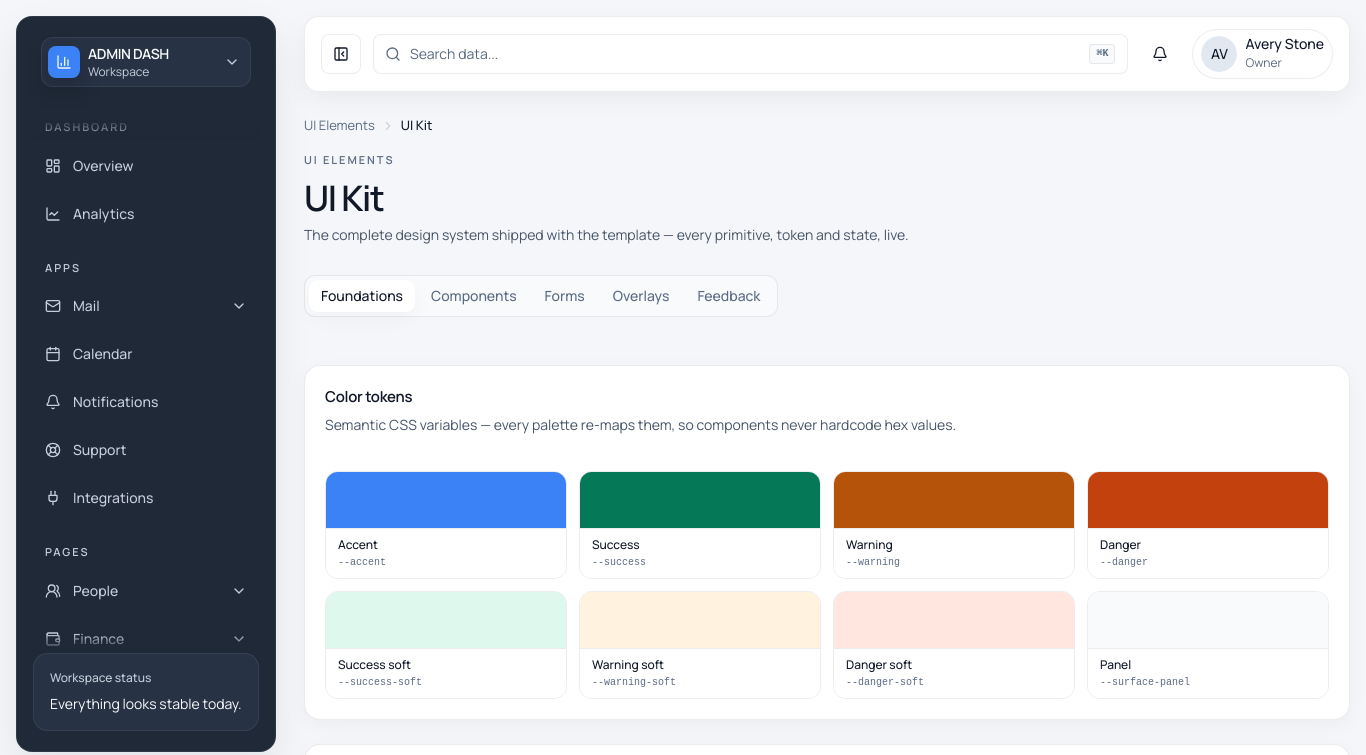
Test: ui kit page › switches panels and shows the component sections
The image size is (1366, 755).
Expected: the heading "UI Kit" is shown, x1=304 y1=173 x2=383 y2=222
Click the tab "Components": (474, 296) x1=419 y1=280 x2=528 y2=312
(page scrolled)
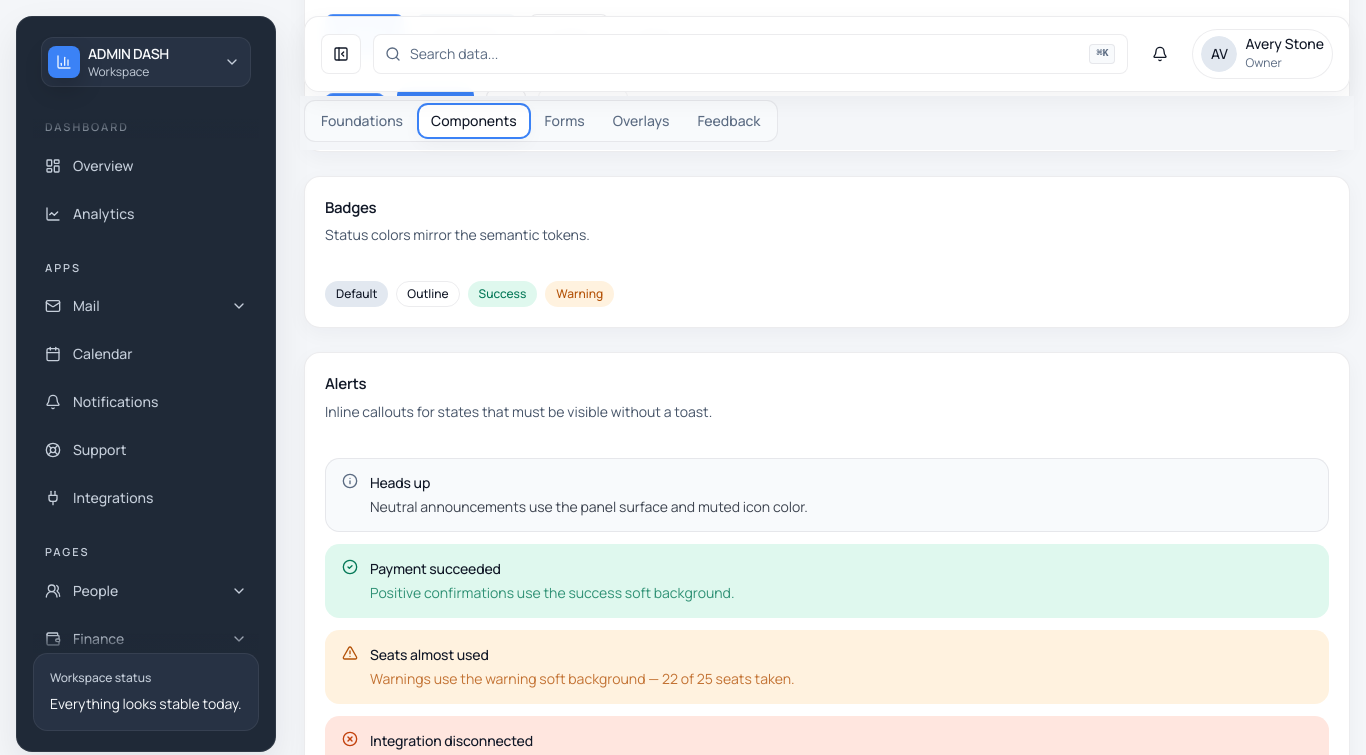
Result: the heading "Badges" is shown at x1=325 y1=197 x2=376 y2=218
Result: the heading "Alerts" is shown at x1=325 y1=373 x2=366 y2=394
